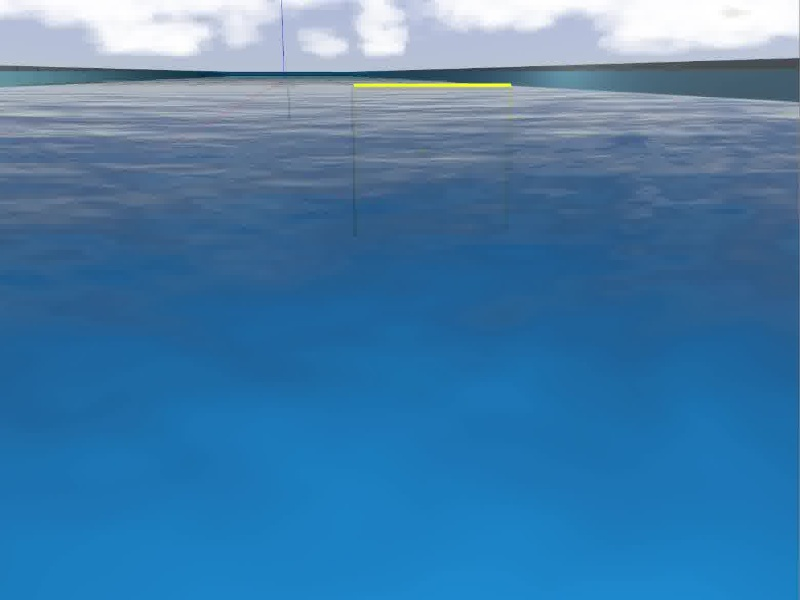gate: (349, 81, 513, 237)
